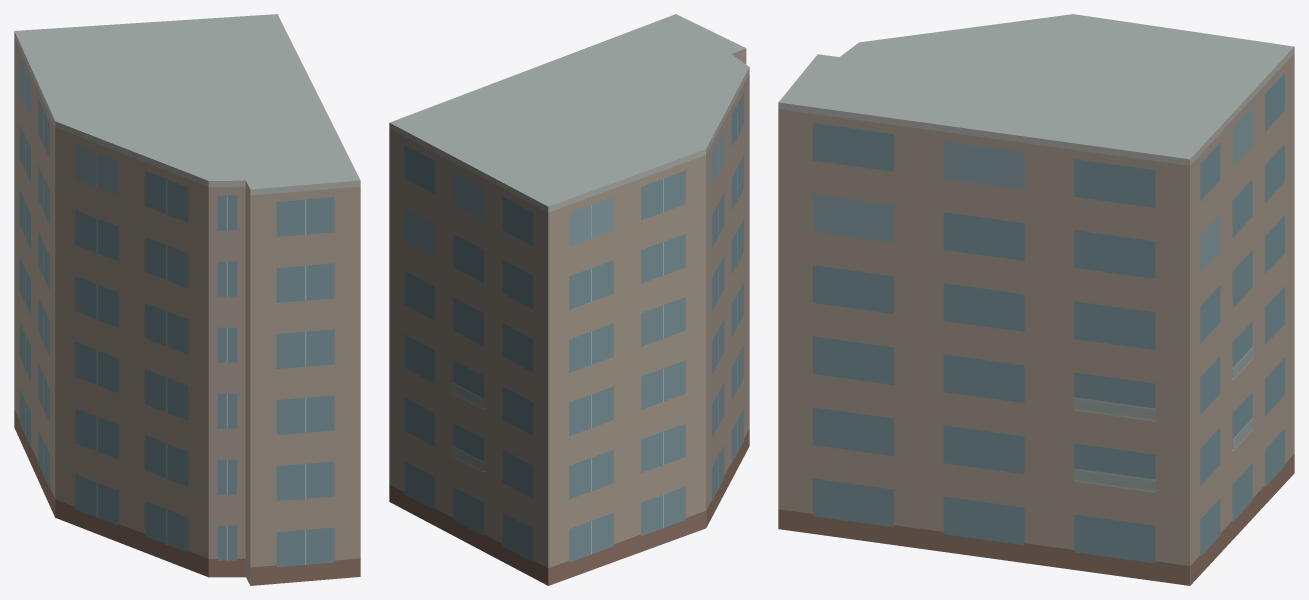
File: survey-upis-32944914.glb
3 views of the same model, side by side, from view 1: azimuth 30°, elevation 25°; view 2: azimuth 150°, elevation 25°; view 3: azimuth 270°, elevation 25° (orthographic). The views are drawn at different scales.
Visible parts, largest first — view 1: survey-upis-32944914.tmp; view 2: survey-upis-32944914.tmp; view 3: survey-upis-32944914.tmp.
Part boxes in pixels (x1=…): survey-upis-32944914.tmp: x1=14, y1=14, x2=360, y2=585; survey-upis-32944914.tmp: x1=389, y1=14, x2=749, y2=585; survey-upis-32944914.tmp: x1=778, y1=14, x2=1294, y2=585.
Bounding box in the file's own units: 11.7 × 16 × 17.56.
